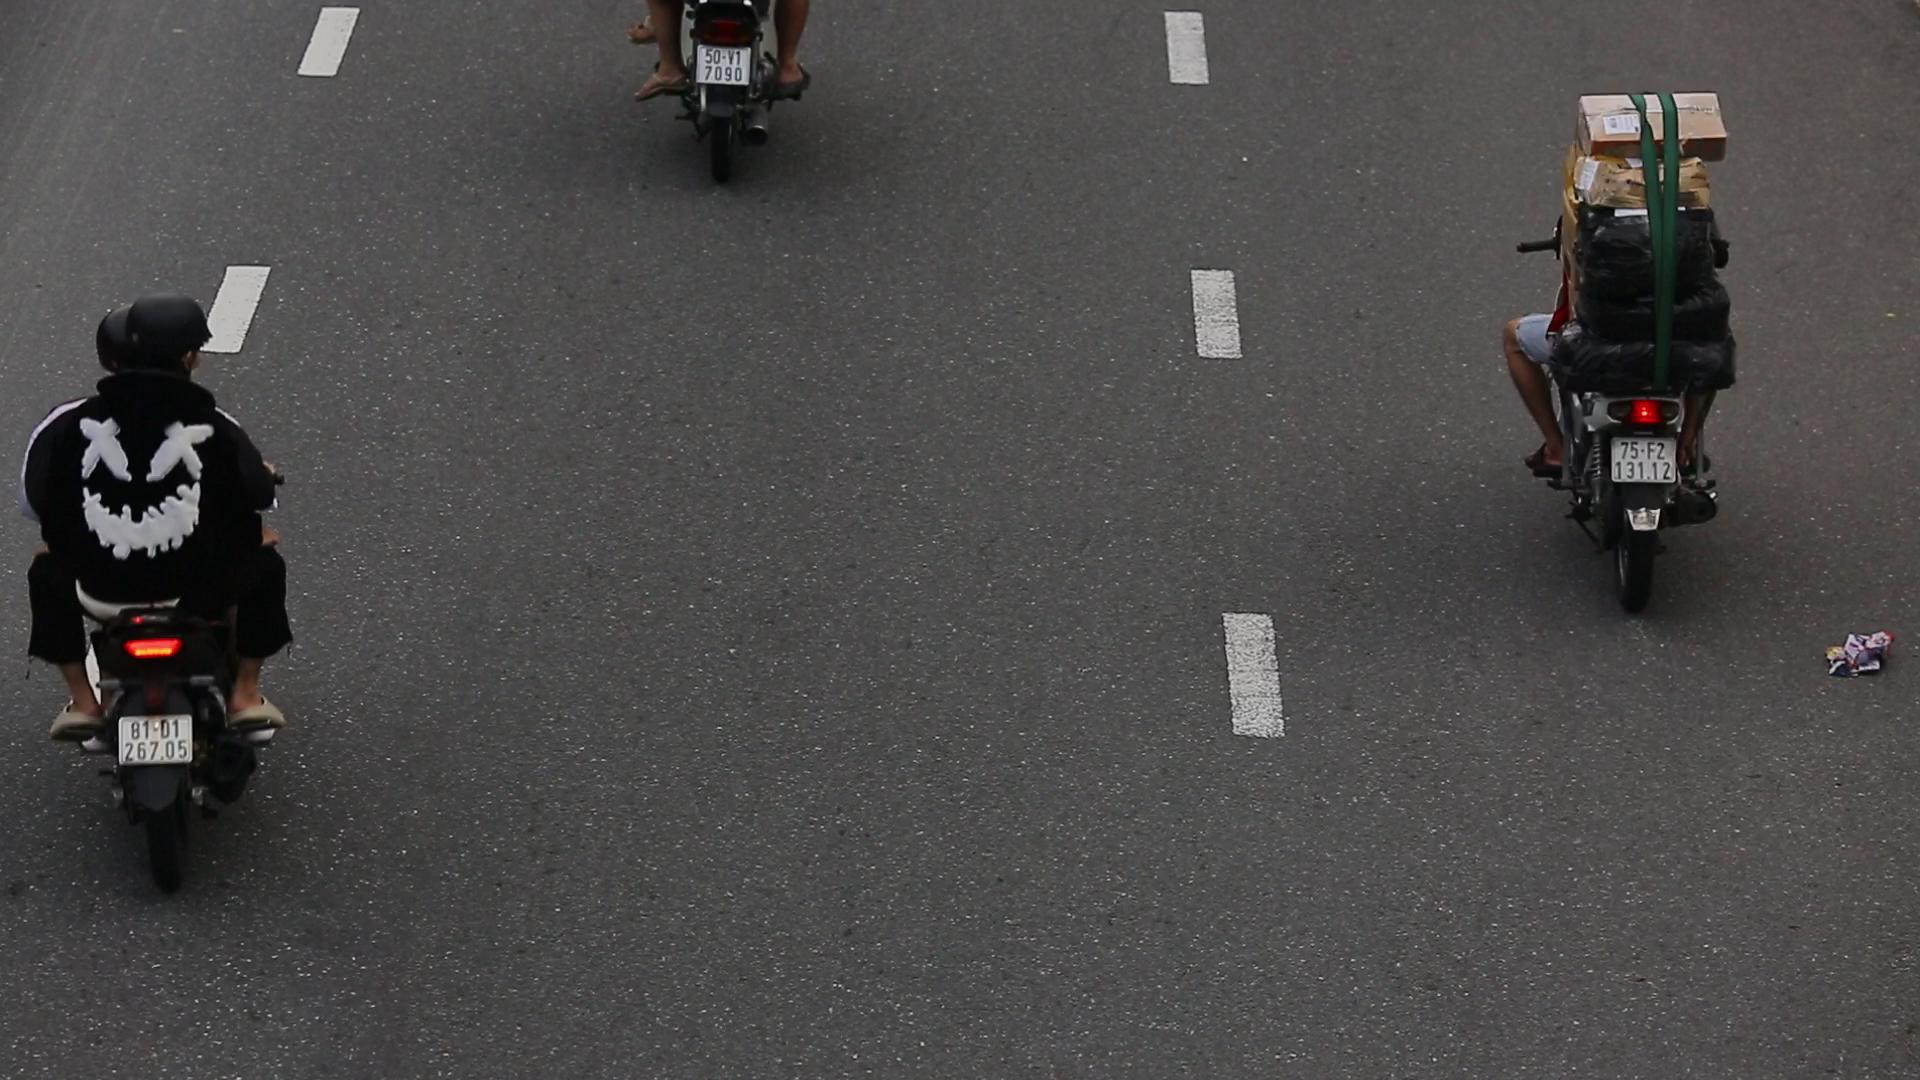motobike: (0, 284, 336, 905), (1474, 74, 1771, 654)
